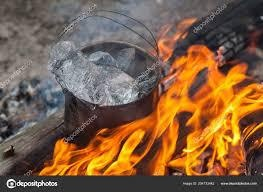fire: (112, 26, 263, 177)
